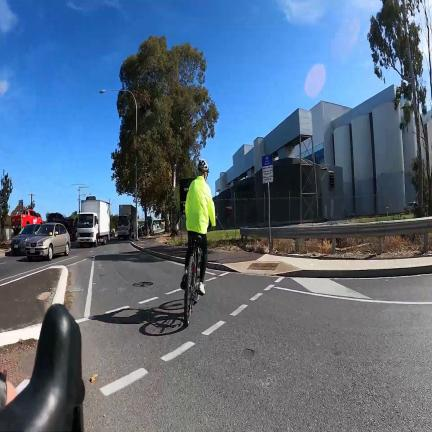Bike_Sign: (262, 155, 273, 184), (268, 185, 270, 228)
